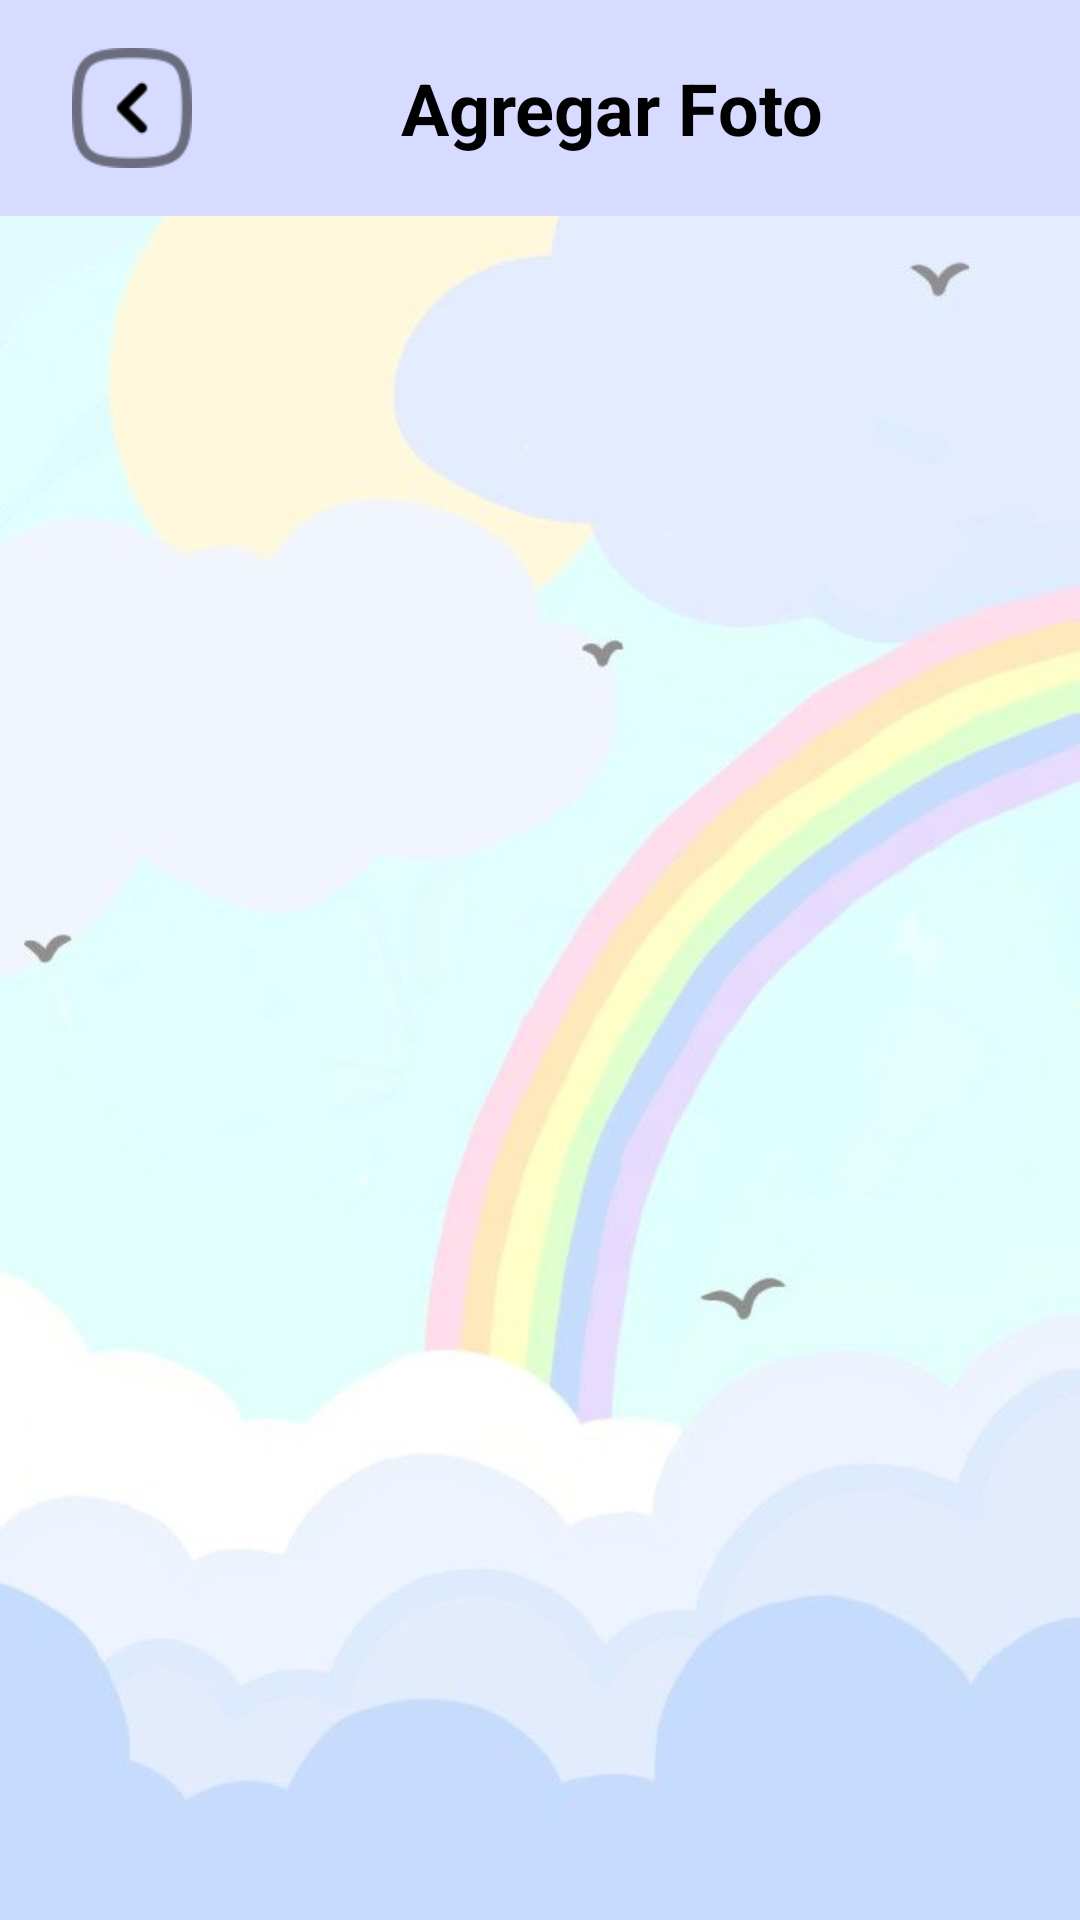

Icon bounding boxes for this 1080 × 1920 phone screenshot, format bbox=[x1, y1, x2, y2]:
flecha regresar: bbox=[72, 48, 192, 168]
